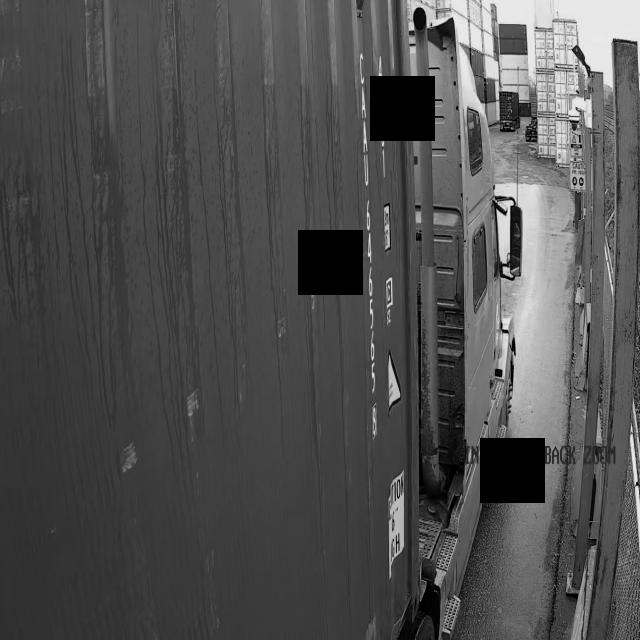container_side_no: (357, 46, 379, 461)
truck_with_container: (0, 0, 527, 640)
